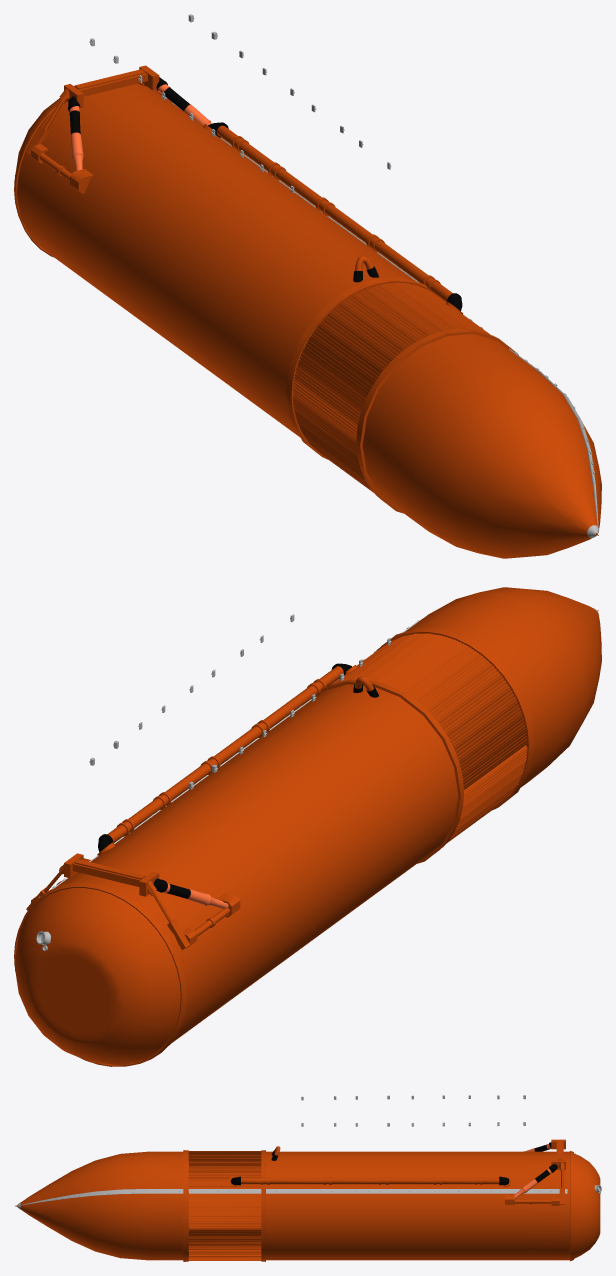
File: fuel_tank.glb
The picture shows the model from 3 angles, top to bottom: view 1: azimuth 30°, elevation 25°; view 2: azimuth 150°, elevation 25°; view 3: azimuth 270°, elevation 25°; orthographic projection. The views are drawn at different scales.
Parts seen in each view (by area): view 1: Orange_Parts, Plane_01, Tubes:Group1; view 2: Orange_Parts, Plane_01, Tubes:Group1; view 3: Orange_Parts, Plane_01, Tubes:Group1, Black_Parts.
Boxes of the visible parts, left/top/right/bottom form: Orange_Parts: left=14, top=65, right=601, bottom=558; Plane_01: left=89, top=14, right=599, bottom=537; Tubes:Group1: left=69, top=84, right=211, bottom=170; Orange_Parts: left=14, top=587, right=601, bottom=1066; Plane_01: left=36, top=608, right=599, bottom=950; Tubes:Group1: left=163, top=882, right=228, bottom=908; Orange_Parts: left=15, top=1139, right=600, bottom=1261; Plane_01: left=17, top=1095, right=601, bottom=1209; Tubes:Group1: left=514, top=1144, right=551, bottom=1199; Black_Parts: left=230, top=1142, right=557, bottom=1185.
Bounding box in the file's own units: 1.48 × 2.15 × 7.73.
Materials: 7 (1 with a texture image).
